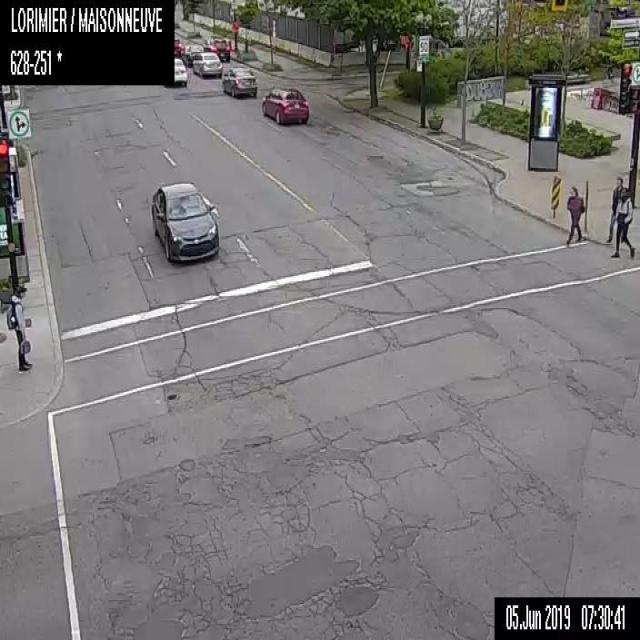pedestrian: (5, 284, 31, 372), (609, 184, 634, 257), (564, 185, 586, 247), (606, 176, 622, 241)
vehicle: (151, 182, 219, 261), (261, 85, 309, 124), (222, 65, 256, 95), (192, 51, 222, 77), (202, 35, 230, 62), (180, 41, 202, 66), (172, 57, 186, 85), (174, 37, 182, 58)
